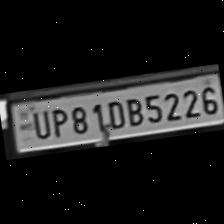1: (86, 98, 110, 132)
2: (159, 89, 182, 123), (177, 86, 200, 119)
5: (140, 91, 164, 124)
6: (195, 83, 219, 116)
8: (64, 102, 90, 136)
B: (120, 94, 144, 128)
D: (100, 96, 125, 132)
P: (46, 105, 68, 138)
U: (25, 106, 51, 140)
